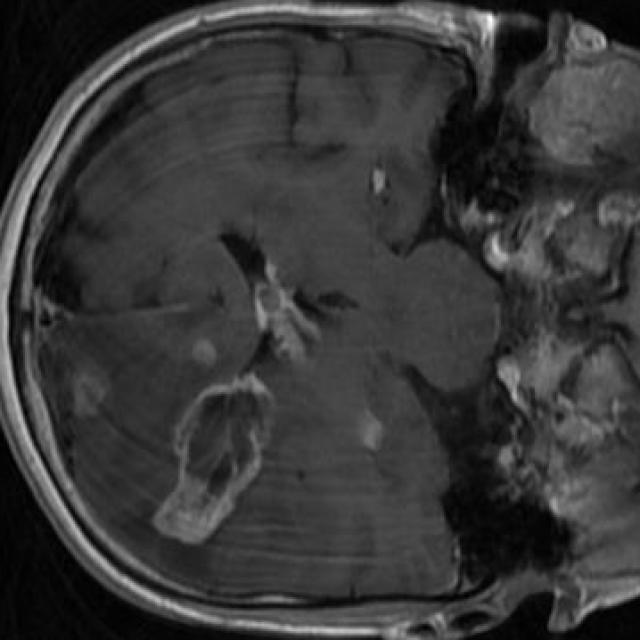glioma: (150, 373, 275, 547)
